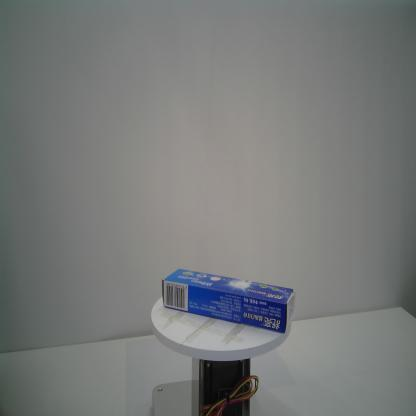Personal Hygiene: (160, 269, 296, 335)
